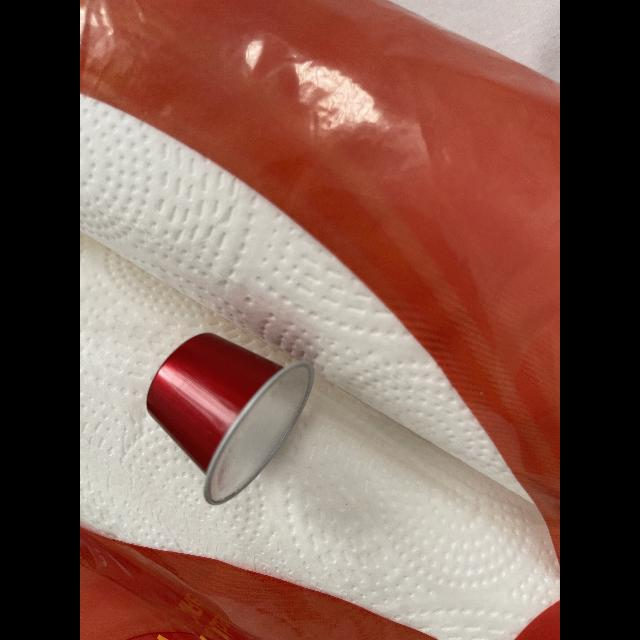intact_capsule: (134, 331, 342, 514)
